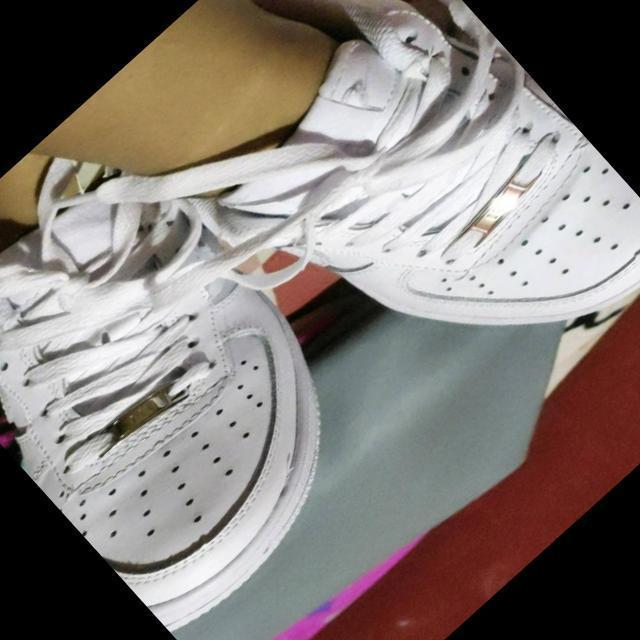nike fake air force: (0, 88, 411, 640), (162, 0, 640, 456)
